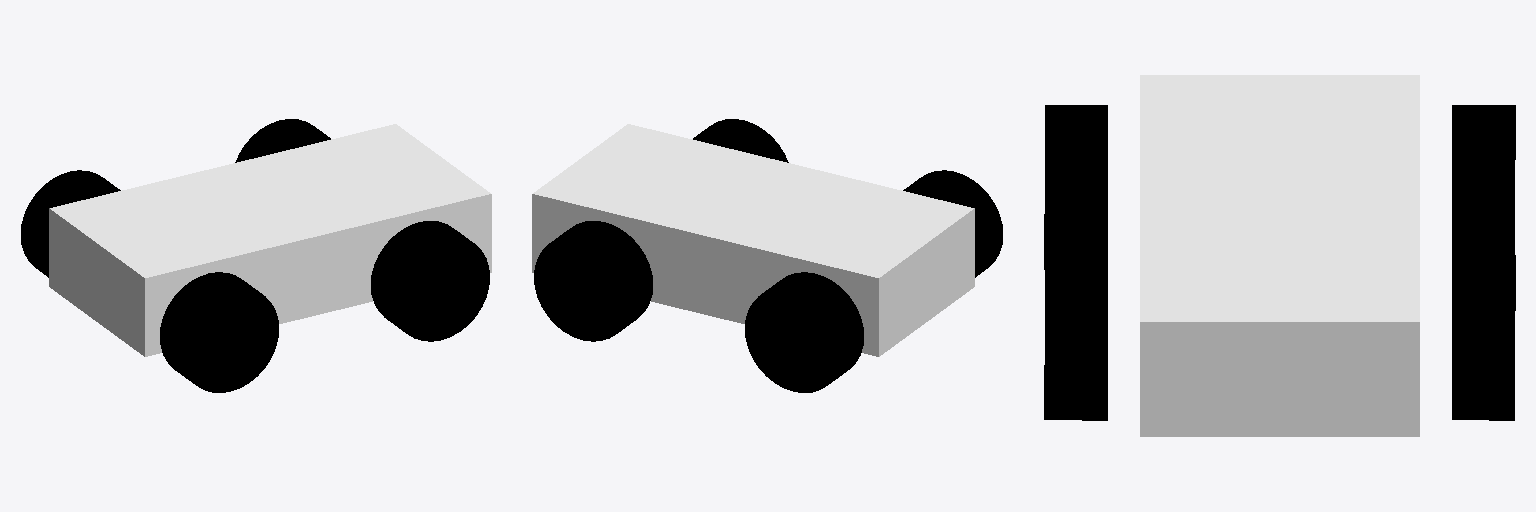
robot.urdf — diode_robot:
<?xml version="1.0" ?>
<robot name="diode_robot">

    <link name="base_link">
        <visual>
            <origin xyz=" 0.08 0 0.04" rpy="0 0 0" />
            <geometry>
                <box size="0.23 0.11 0.05"/>
            </geometry>
            <material name="white">
                <color rgba="255 255 1 1"/>
            </material>
        </visual>
    </link>   

    <joint name="left_wheel_joint" type="continuous">
        <origin xyz="0 0.08 0.0325" rpy="1.57 0 0"/>
        <parent link="base_link"/>
        <child link="left_wheel_link"/>
        <axis xyz="0 1 0"/>
    </joint>

    <link name="left_wheel_link">
        <visual>
            <origin xyz="0 0 0" rpy="0 0 0" />
            <geometry>
                <cylinder radius="0.0325" length = "0.025"/>
            </geometry>
            <material name="black">
                <color rgba="0 0 0 1"/>
            </material>
        </visual>
    </link>

    <joint name="right_wheel_joint" type="continuous">
        <origin xyz="0 -0.08 0.0325" rpy="1.57 0 0"/>
        <parent link="base_link"/>
        <child link="right_wheel_link"/>
        <axis xyz="0 1 0"/>
    </joint>

    <link name="right_wheel_link">
        <visual>
            <origin xyz="0 0 0" rpy="0 0 0" />
            <geometry>
                <cylinder radius="0.0325" length = "0.025"/>
            </geometry>
            <material name="black">
                <color rgba="0 0 0 1"/>
            </material>
        </visual>
    </link>

      <joint name="left_front_joint" type="continuous">
        <origin xyz="0.14 0.08 0.0325" rpy="1.57 0 0"/>
        <parent link="base_link"/>
        <child link="left_front_link"/>
        <axis xyz="0 1 0"/>
    </joint>

    <link name="left_front_link">
        <visual>
            <origin xyz="0 0 0" rpy="0 0 0" />
            <geometry>
                <cylinder radius="0.0325" length = "0.025"/>
            </geometry>
            <material name="black">
                <color rgba="0 0 0 1"/>
            </material>
        </visual>
    </link>

    <joint name="right_front_joint" type="continuous">
        <origin xyz="0.14 -0.08 0.0325" rpy="1.57 0 0"/>
        <parent link="base_link"/>
        <child link="right_front_link"/>
        <axis xyz="0 1 0"/>
    </joint>

    <link name="right_front_link">
        <visual>
            <origin xyz="0 0 0" rpy="0 0 0" />
            <geometry>
                <cylinder radius="0.0325" length = "0.025"/>
            </geometry>
            <material name="black">
                <color rgba="0 0 0 1"/>
            </material>
        </visual>
    </link>


</robot>

--- Facts derived from the render (not from the file) ---
3 views of the same robot in one strip: view 1: azimuth 30°, elevation 25°; view 2: azimuth 150°, elevation 25°; view 3: azimuth 270°, elevation 25° (orthographic).
Robot: diode_robot — 5 links, 4 joints (4 continuous); root link base_link; default pose: all joints at 0.
Visible links, largest first — view 1: base_link, right_wheel_link, right_front_link, left_wheel_link, left_front_link; view 2: base_link, left_wheel_link, left_front_link, right_wheel_link, right_front_link; view 3: base_link, left_front_link, right_front_link, right_wheel_link, left_wheel_link.
Boxes of the visible links, left/top/right/bottom form: base_link: left=49, top=124, right=491, bottom=356; right_wheel_link: left=160, top=272, right=278, bottom=392; right_front_link: left=371, top=221, right=489, bottom=341; left_wheel_link: left=21, top=170, right=120, bottom=277; left_front_link: left=235, top=119, right=330, bottom=162; base_link: left=532, top=124, right=974, bottom=356; left_wheel_link: left=745, top=272, right=863, bottom=392; left_front_link: left=534, top=221, right=652, bottom=341; right_wheel_link: left=903, top=170, right=1002, bottom=277; right_front_link: left=693, top=119, right=788, bottom=162; base_link: left=1140, top=75, right=1419, bottom=436; left_front_link: left=1452, top=255, right=1515, bottom=420; right_front_link: left=1044, top=255, right=1107, bottom=420; right_wheel_link: left=1044, top=105, right=1107, bottom=269; left_wheel_link: left=1452, top=105, right=1515, bottom=254.
Bounding box of the posed robot: 0.23 × 0.1851 × 0.065 m (x, y, z).
Geometry: primitives only (box / cylinder / sphere), no mesh files.